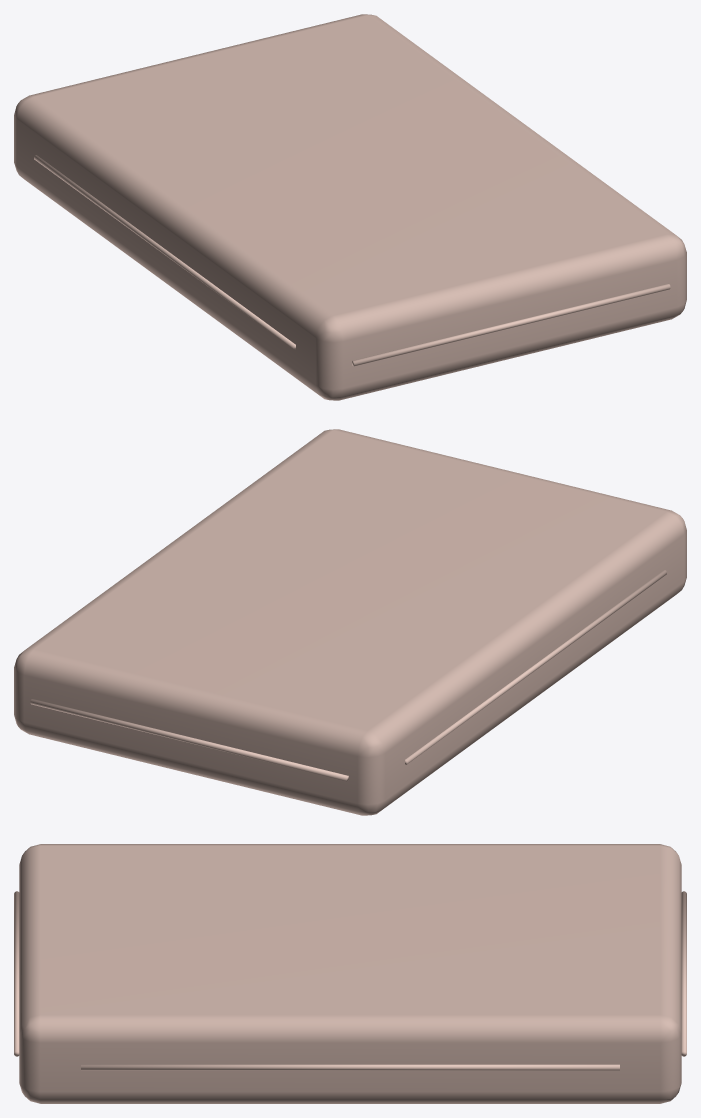
The model's file is almofada-terracota.glb.
3 renders of one model, top to bottom at view 1: azimuth 30°, elevation 25°; view 2: azimuth 150°, elevation 25°; view 3: azimuth 270°, elevation 25°, orthographic. The views are drawn at different scales.
Visible parts, largest first — view 1: Almofada interior, Pesponto lateral, Pesponto de canto; view 2: Almofada interior, Pesponto lateral.001, Pesponto de canto; view 3: Almofada interior, Pesponto de canto.001, Pesponto lateral, Pesponto lateral.001.
Part boxes in pixels (bbox=[...]): Almofada interior: bbox=[14, 14, 686, 400]; Pesponto lateral: bbox=[352, 283, 670, 366]; Pesponto de canto: bbox=[34, 155, 295, 349]; Almofada interior: bbox=[14, 429, 686, 815]; Pesponto lateral.001: bbox=[30, 698, 348, 781]; Pesponto de canto: bbox=[405, 570, 666, 764]; Almofada interior: bbox=[19, 844, 681, 1103]; Pesponto de canto.001: bbox=[81, 1064, 619, 1070]; Pesponto lateral: bbox=[14, 891, 19, 1056]; Pesponto lateral.001: bbox=[681, 891, 686, 1056].
Size of the model in its own units: 0.369 by 0.0792 by 0.5546.
